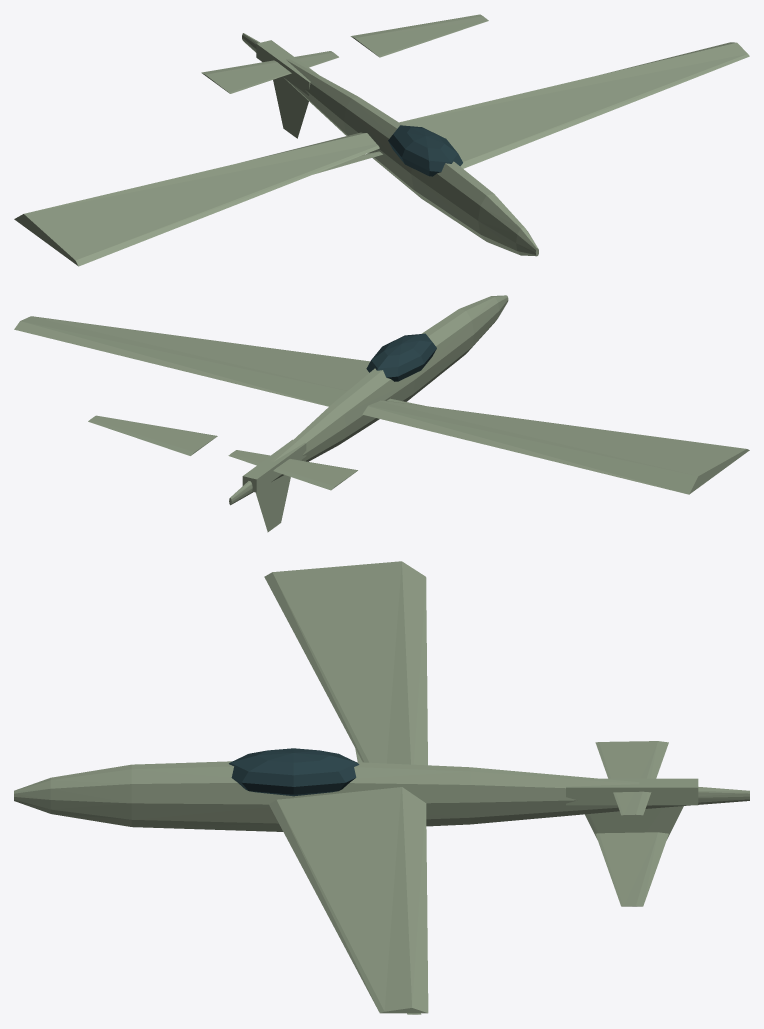
The model's file is lancaster.glb.
3 views of the same model, one above another, from view 1: azimuth 30°, elevation 25°; view 2: azimuth 150°, elevation 25°; view 3: azimuth 270°, elevation 25° (orthographic). The views are drawn at different scales.
Parts seen in each view (by area): view 1: Wing_L, Wing_R, Fuselage, Cockpit, Elevator_R, Elevator_L, Rudder, TailBoom; view 2: Wing_L, Wing_R, Fuselage, Cockpit, Elevator_R, Elevator_L, Rudder, TailBoom; view 3: Fuselage, Wing_R, Wing_L, Cockpit, Elevator_R, Elevator_L, TailBoom, Rudder.
Part boxes in pixels (<box>): Wing_L: <box>14,132,379,266</box>; Wing_R: <box>399,42,749,168</box>; Fuselage: <box>242,33,538,256</box>; Cockpit: <box>388,125,462,176</box>; Elevator_R: <box>350,14,488,57</box>; Elevator_L: <box>201,51,338,93</box>; Rudder: <box>273,76,308,138</box>; TailBoom: <box>256,40,318,96</box>; Wing_L: <box>362,400,749,494</box>; Wing_R: <box>14,316,370,406</box>; Fuselage: <box>229,295,508,505</box>; Cockpit: <box>366,333,436,381</box>; Elevator_R: <box>88,415,217,455</box>; Elevator_L: <box>228,450,357,490</box>; Rudder: <box>256,475,290,532</box>; TailBoom: <box>242,439,306,492</box>; Fuselage: <box>14,761,749,831</box>; Wing_R: <box>269,787,428,1013</box>; Wing_L: <box>264,561,427,765</box>; Cockpit: <box>229,748,359,796</box>; Elevator_R: <box>595,832,668,906</box>; Elevator_L: <box>595,741,668,815</box>; TailBoom: <box>566,778,698,805</box>; Rudder: <box>585,806,683,839</box>.
Bounding box in the file's own units: 29.86 × 3.84 × 21.2.
